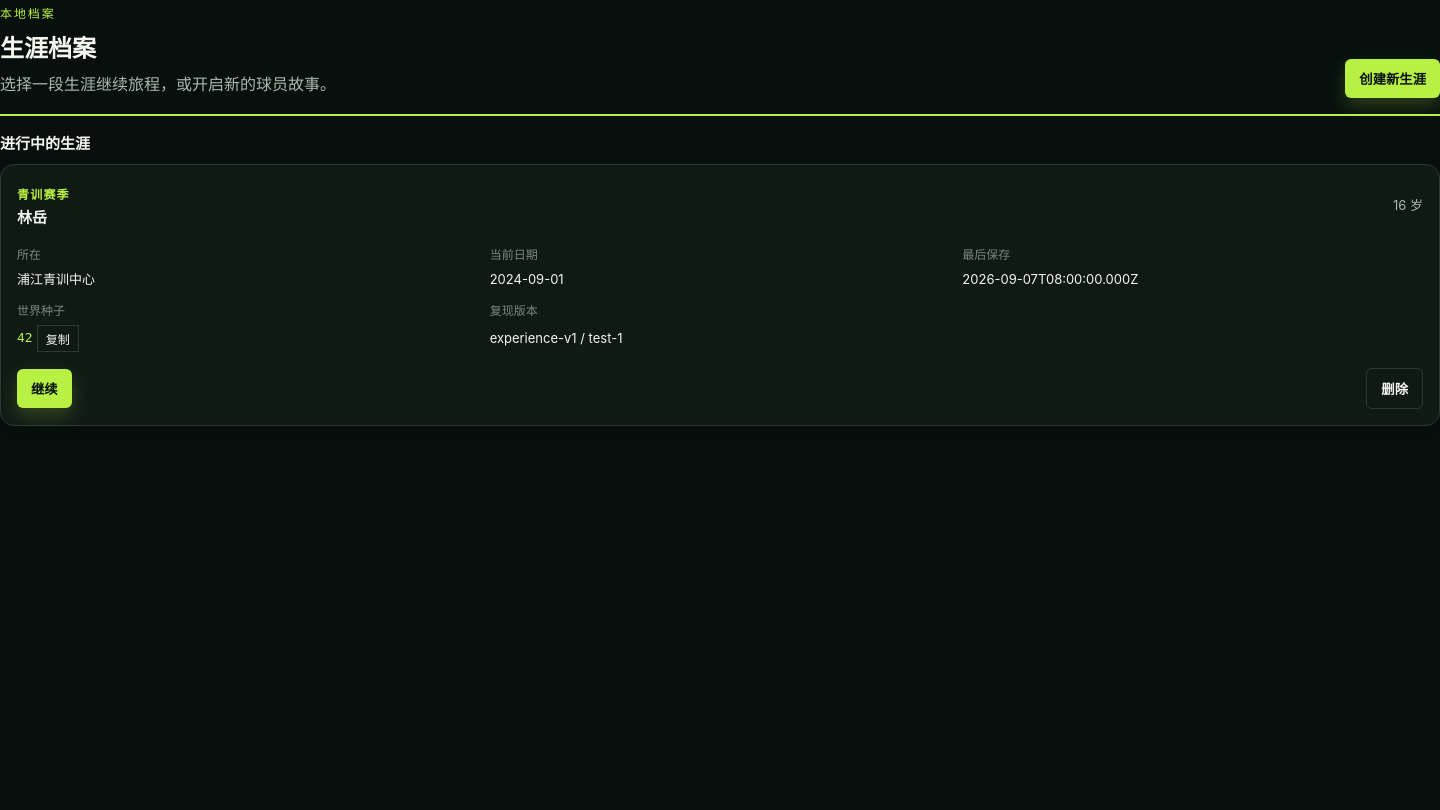
Test: CareerSaveSelector › allows retrying a failed deletion without leaking a rejected event promise
Click the button with aria-label "删除林岳的生涯": coordinates (1395, 389) top-left (1366, 368), bottom-right (1423, 409)
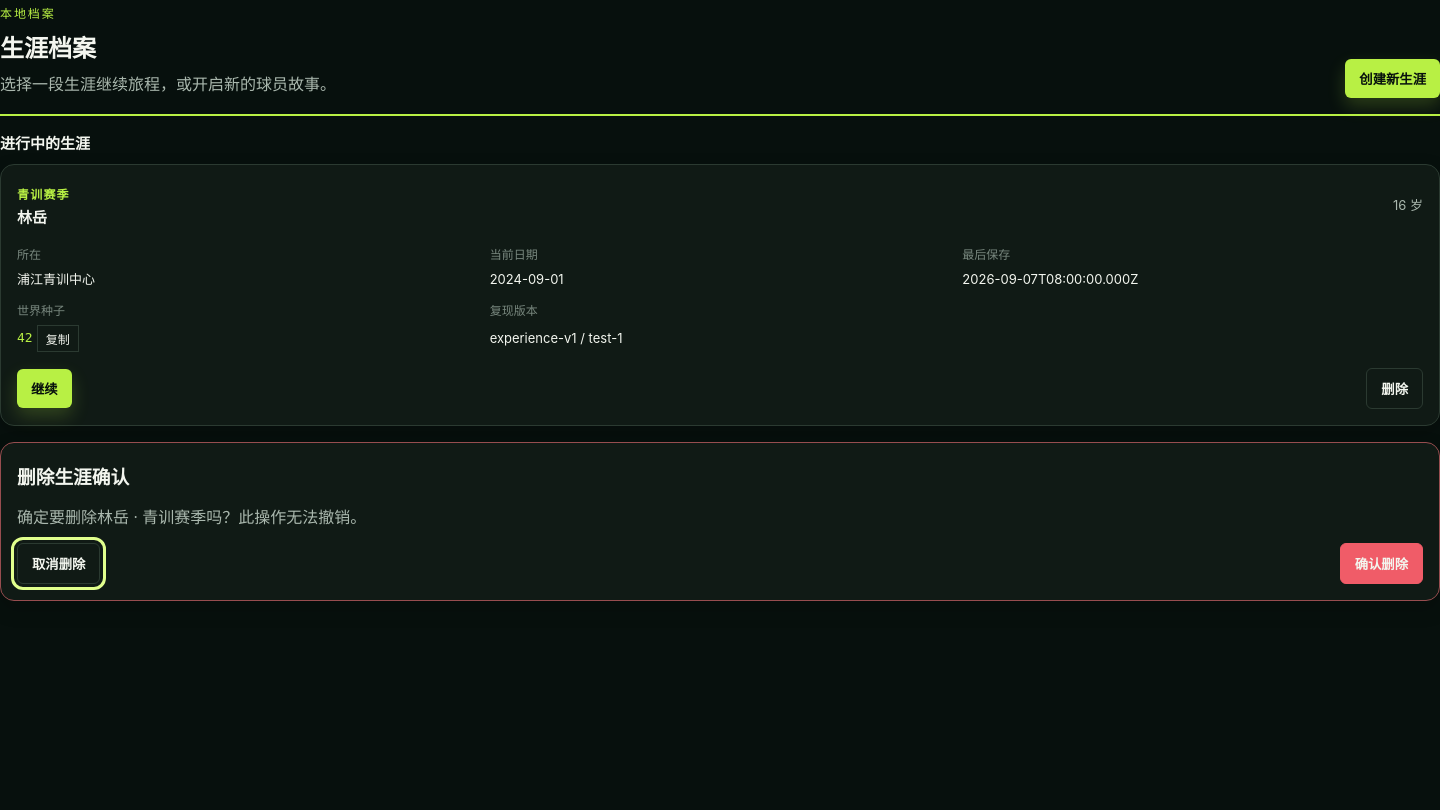
Click the button "确认删除": coordinates (1381, 563) top-left (1340, 543), bottom-right (1423, 584)
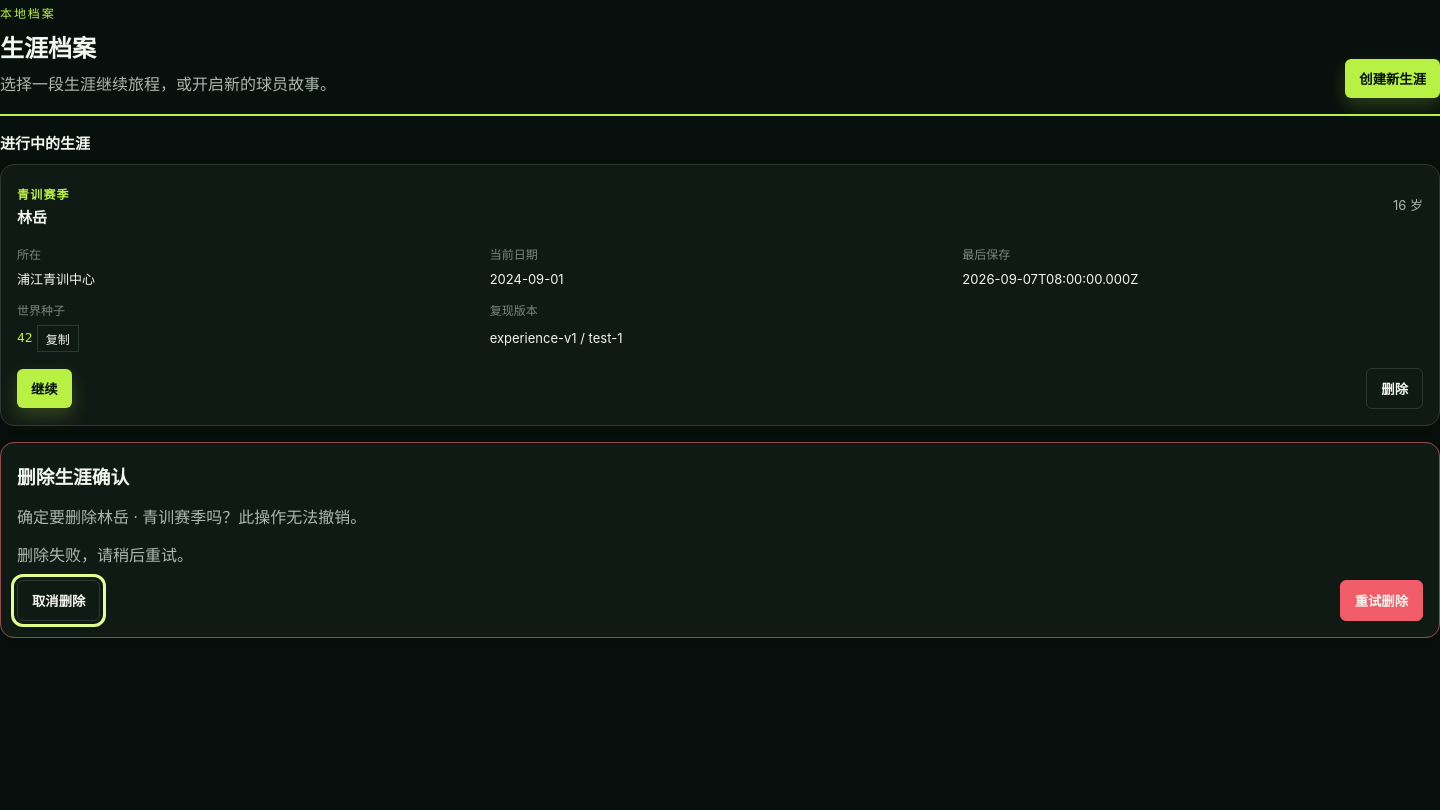
Now the message "删除失败，请稍后重试。" is shown, box top-left (17, 547), bottom-right (193, 564)
Click the button "重试删除": coordinates (1381, 601) top-left (1340, 580), bottom-right (1423, 622)
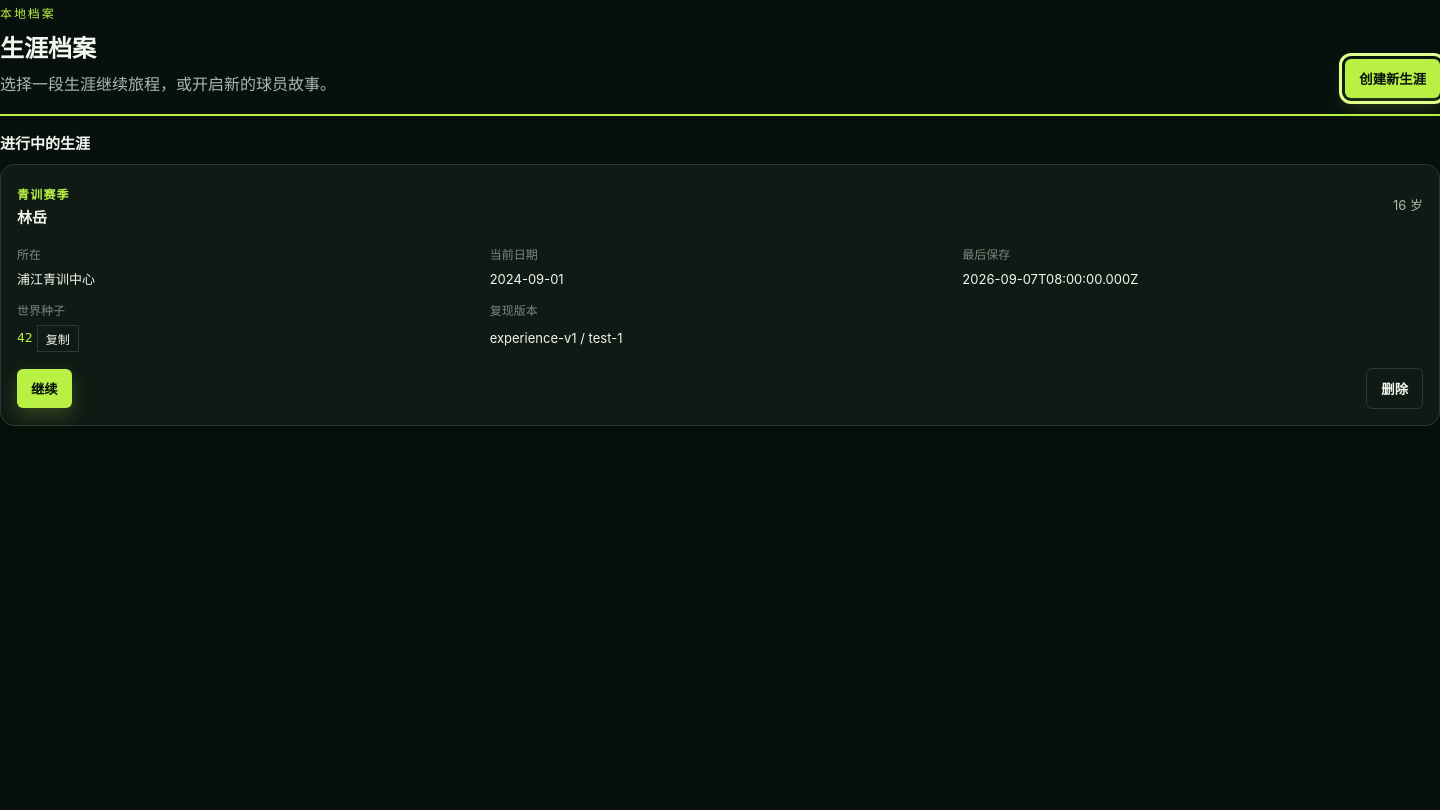
Now the heading "删除生涯确认" is gone
